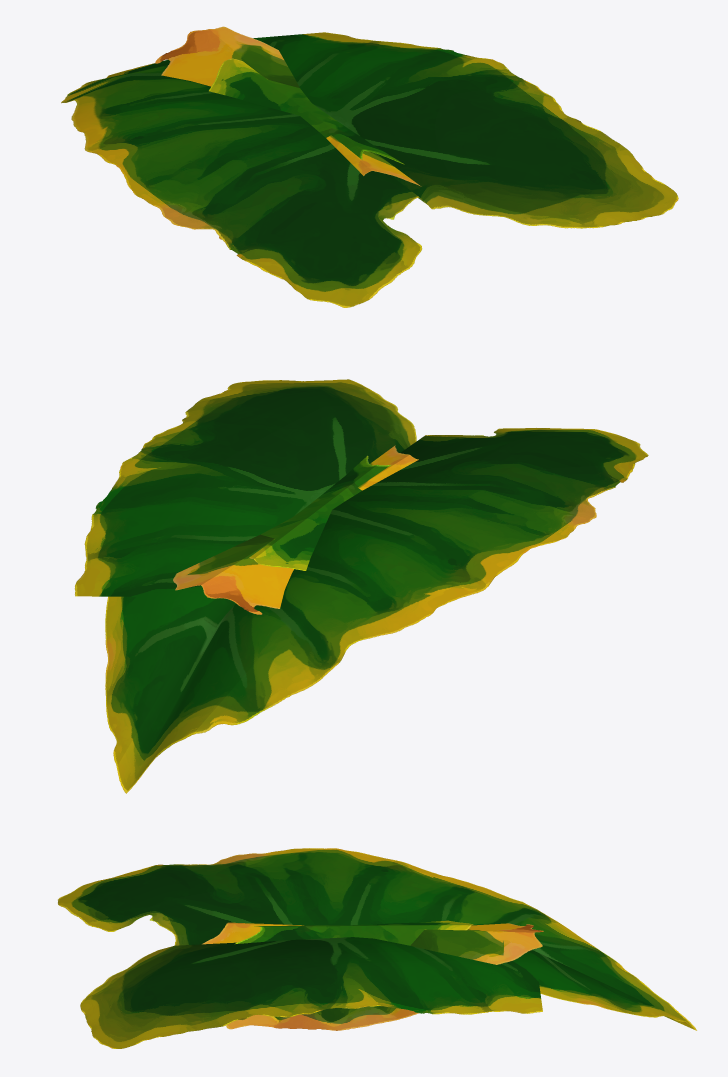
Rendered from leaves.fbx.
3 renders of one model, top to bottom at view 1: azimuth 30°, elevation 25°; view 2: azimuth 150°, elevation 25°; view 3: azimuth 270°, elevation 25°, orthographic. The views are drawn at different scales.
Parts seen in each view (by area): view 1: leaf_2, leaf_3, leaf_1; view 2: leaf_2, leaf_3, leaf_1; view 3: leaf_2, leaf_3, leaf_1.
Part boxes in pixels (<box>): leaf_2: <box>61,32,678,307</box>; leaf_3: <box>155,26,507,239</box>; leaf_1: <box>209,58,404,164</box>; leaf_2: <box>74,379,648,793</box>; leaf_3: <box>173,445,418,614</box>; leaf_1: <box>249,455,390,570</box>; leaf_2: <box>58,848,696,1048</box>; leaf_3: <box>202,922,543,1030</box>; leaf_1: <box>235,920,473,945</box>.
Bounding box in the file's own units: 119 × 35.87 × 185.
